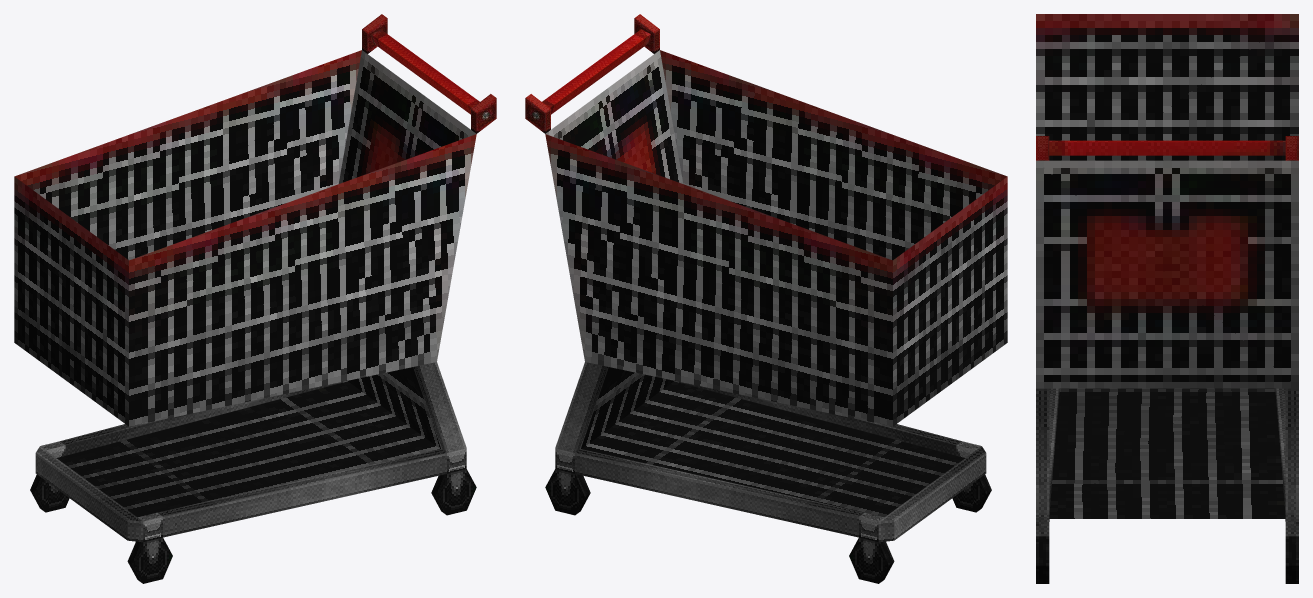
The model's file is cart-transformed.glb.
The picture shows the model from 3 angles, left to right: view 1: azimuth 30°, elevation 25°; view 2: azimuth 150°, elevation 25°; view 3: azimuth 270°, elevation 25°; orthographic projection. The views are drawn at different scales.
Visible parts, largest first — view 1: Cube_TT_checker_512x512_COLOR_GRID_0; view 2: Cube_TT_checker_512x512_COLOR_GRID_0; view 3: Cube_TT_checker_512x512_COLOR_GRID_0.
Part boxes in pixels (box(x1,y1,x2,y2)): Cube_TT_checker_512x512_COLOR_GRID_0: box(14, 14, 496, 583); Cube_TT_checker_512x512_COLOR_GRID_0: box(525, 14, 1007, 583); Cube_TT_checker_512x512_COLOR_GRID_0: box(1036, 14, 1298, 583).
Bounding box in the file's own units: 3.7 × 3.9 × 2.
Materials: 1 (1 with a texture image).
